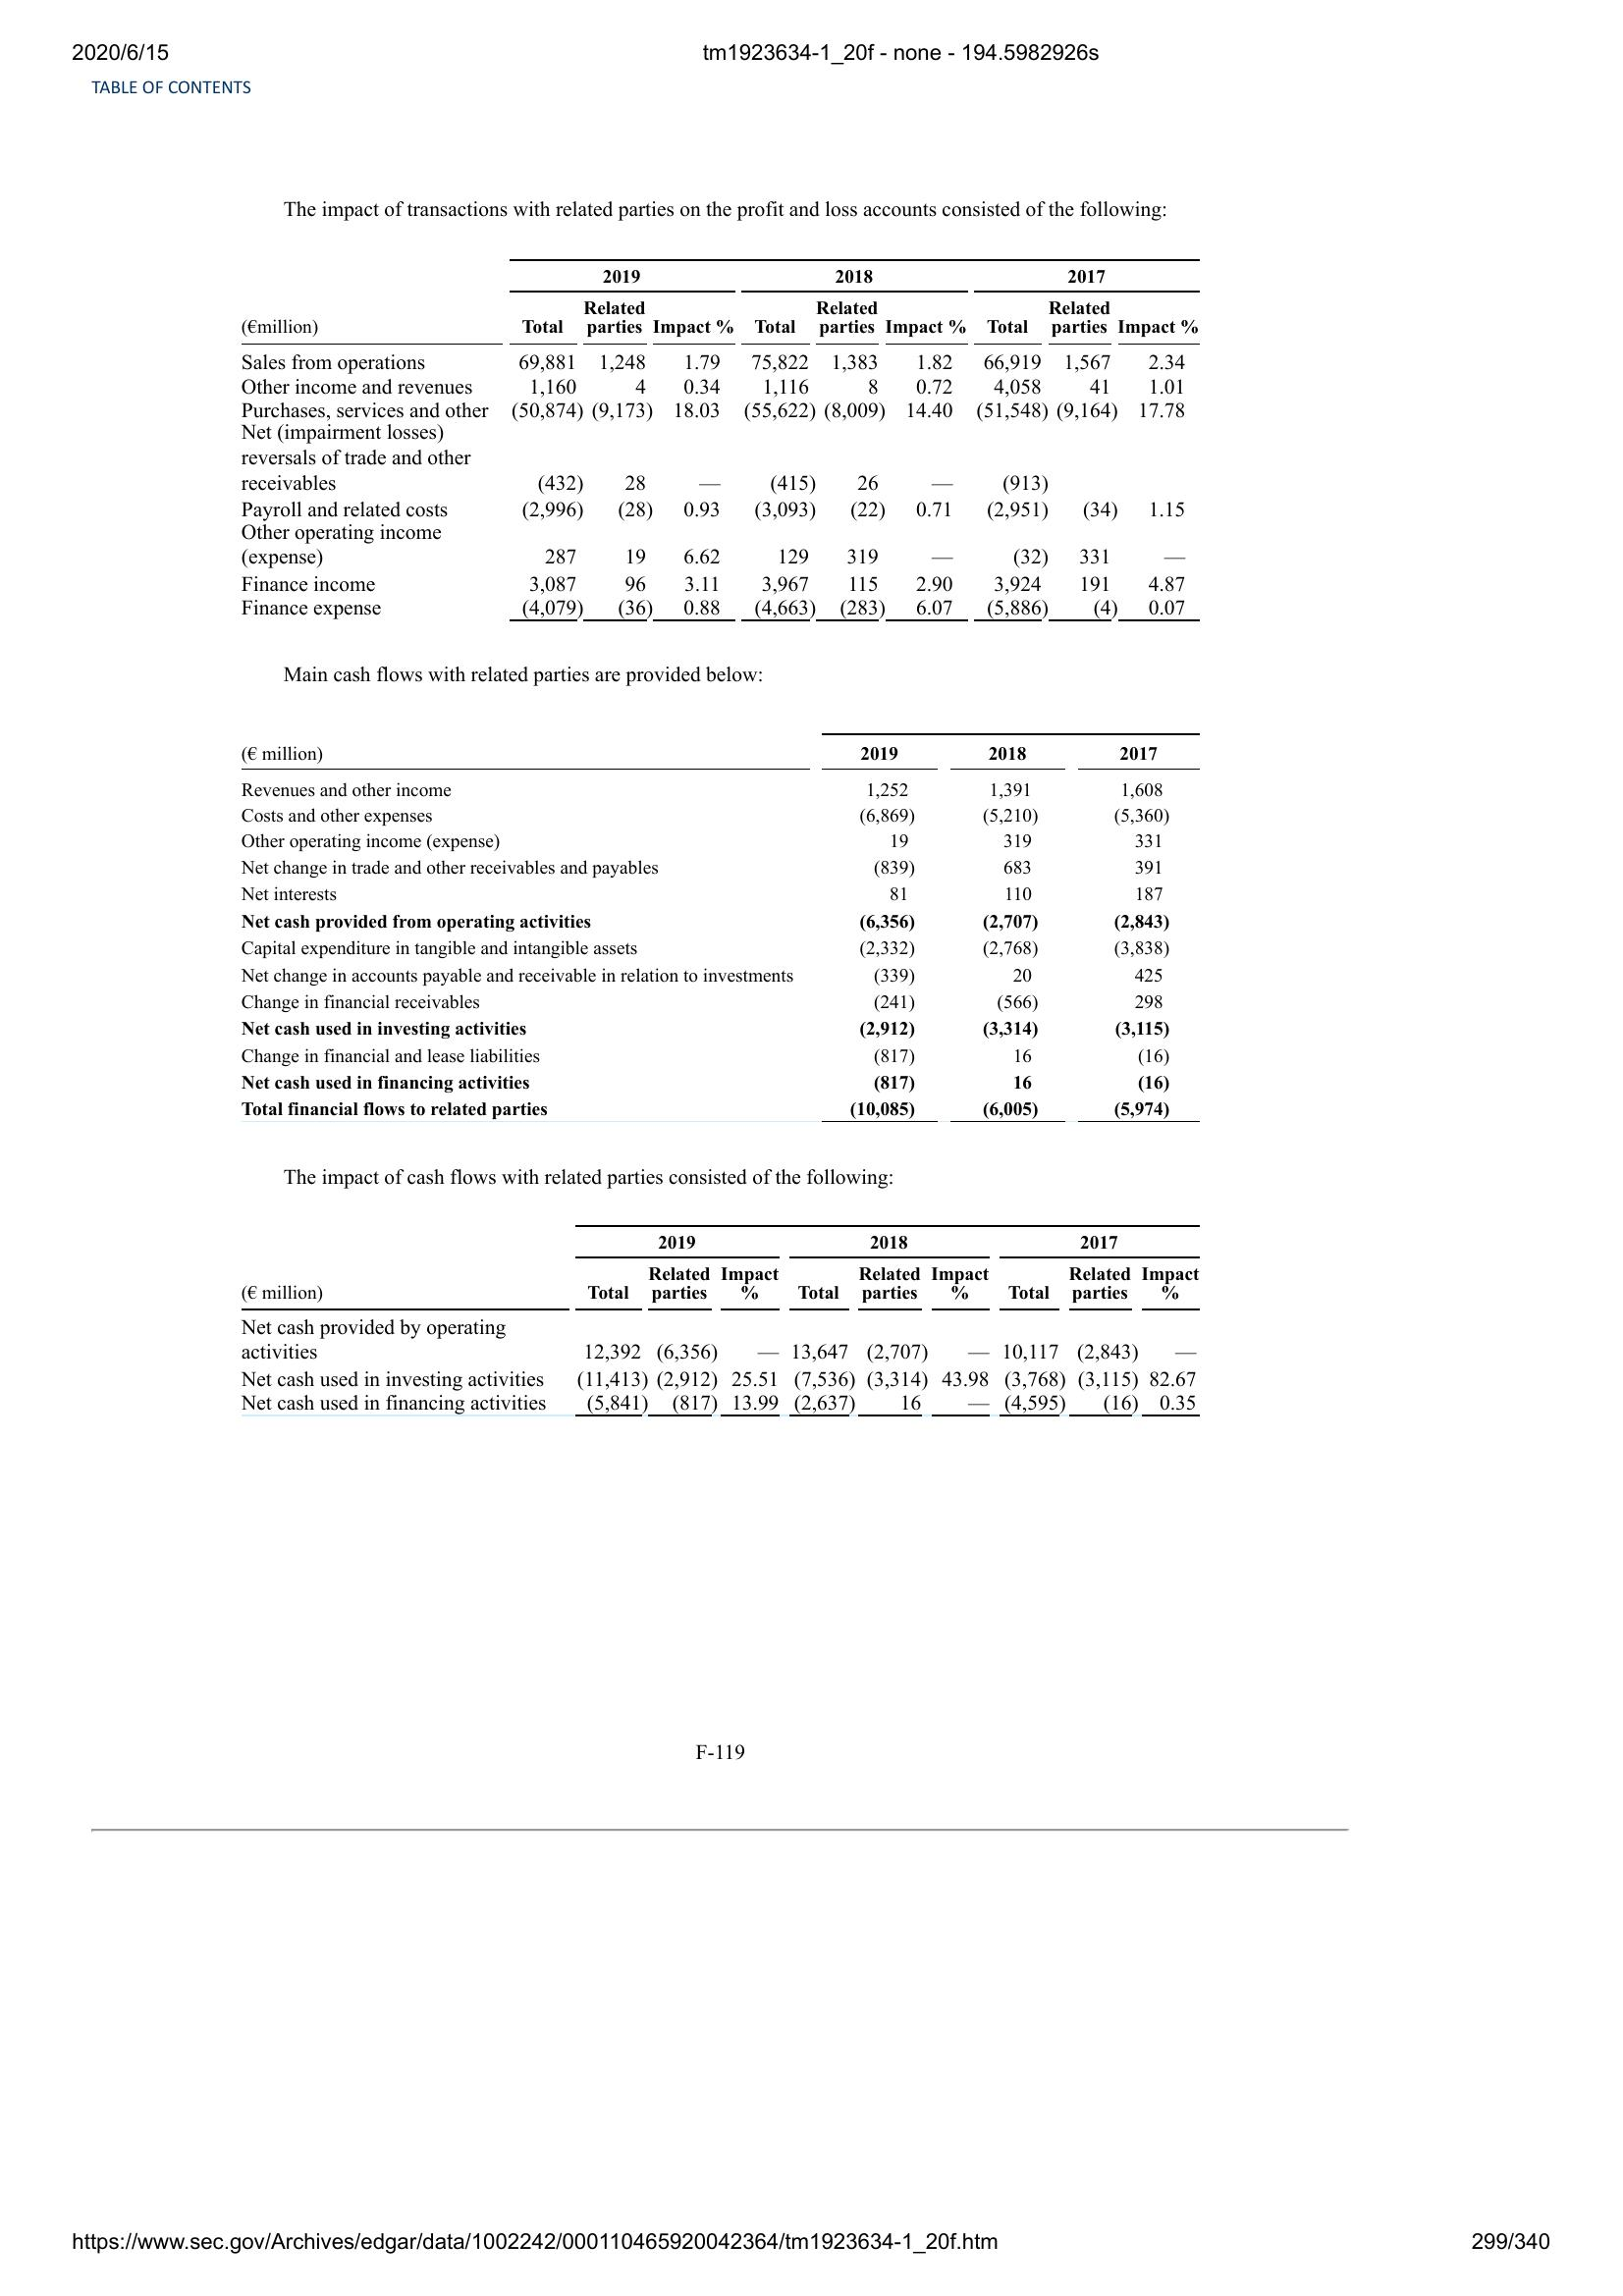table: (237, 727, 1203, 1125), (239, 253, 1208, 627), (235, 1216, 1210, 1427)
